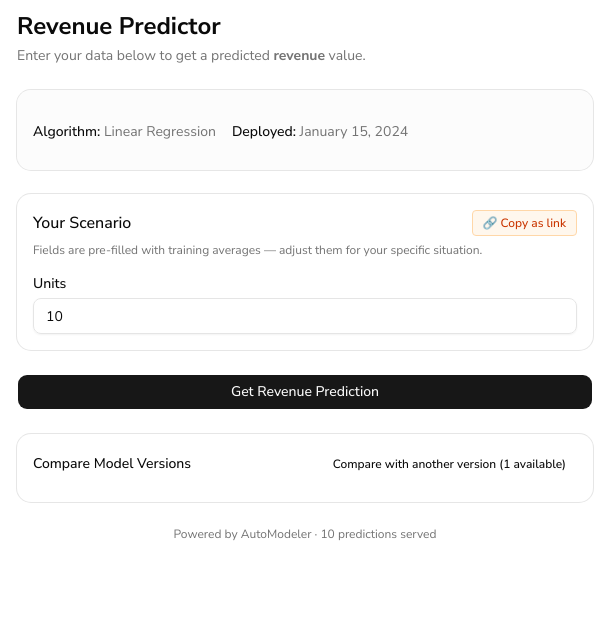
it: CompareModelsCard — interaction › expands panel with dropdown and Compare button when toggle clicked
This screenshot has width=611, height=635.
Expected: the text "Units" is shown, [33,274,66,293]
Click the button with test id "compare-toggle". click: (449, 464)
box: [322,450,577,478]
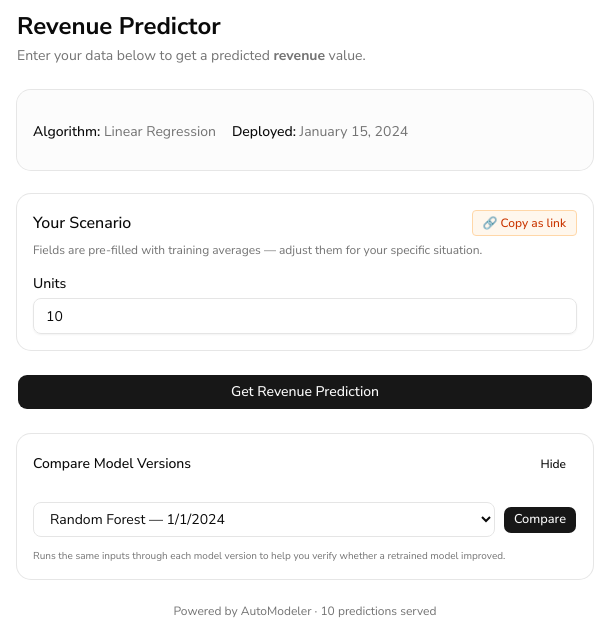
Expected: the button with test id "compare-button" is shown, [503,506,577,534]
Now the dropdown with test id "compare-select" is shown, box [33,502,495,537]
